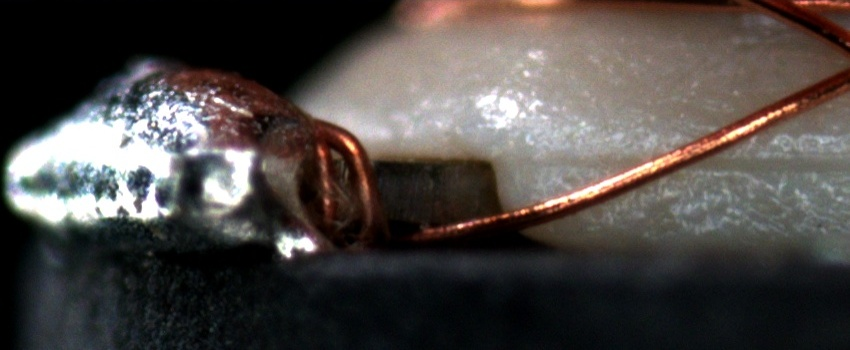DL: (531, 136, 850, 194)
TE: (298, 109, 395, 242)
